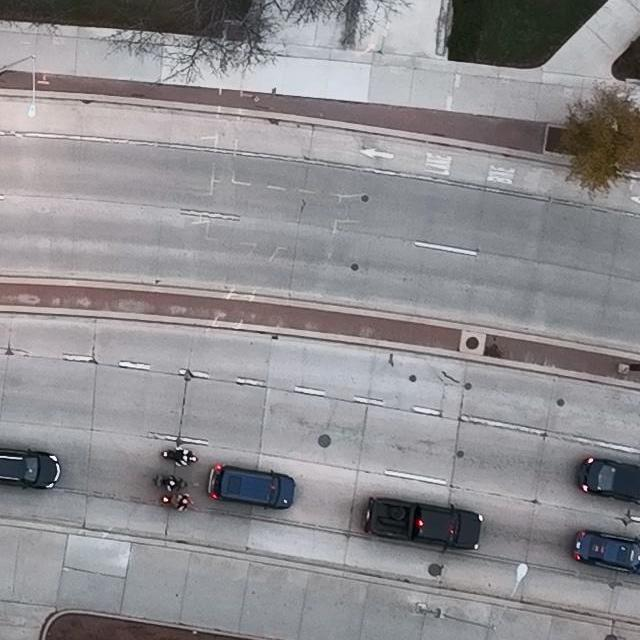car: (363, 497, 483, 553), (208, 463, 296, 511), (572, 529, 640, 575), (577, 456, 640, 503), (0, 447, 61, 489)
